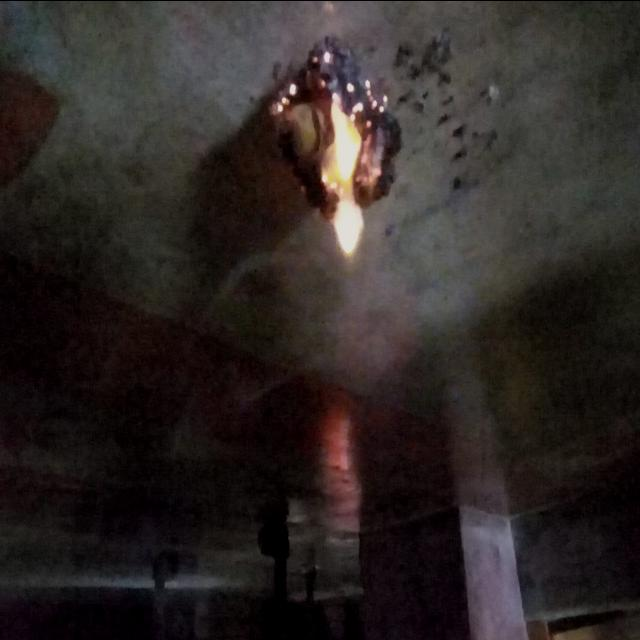firerotation: (316, 50, 390, 264)
